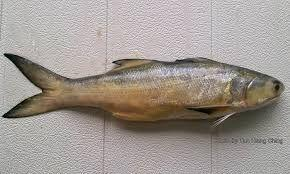Fourfinger Threadfish: (2, 52, 285, 135)
